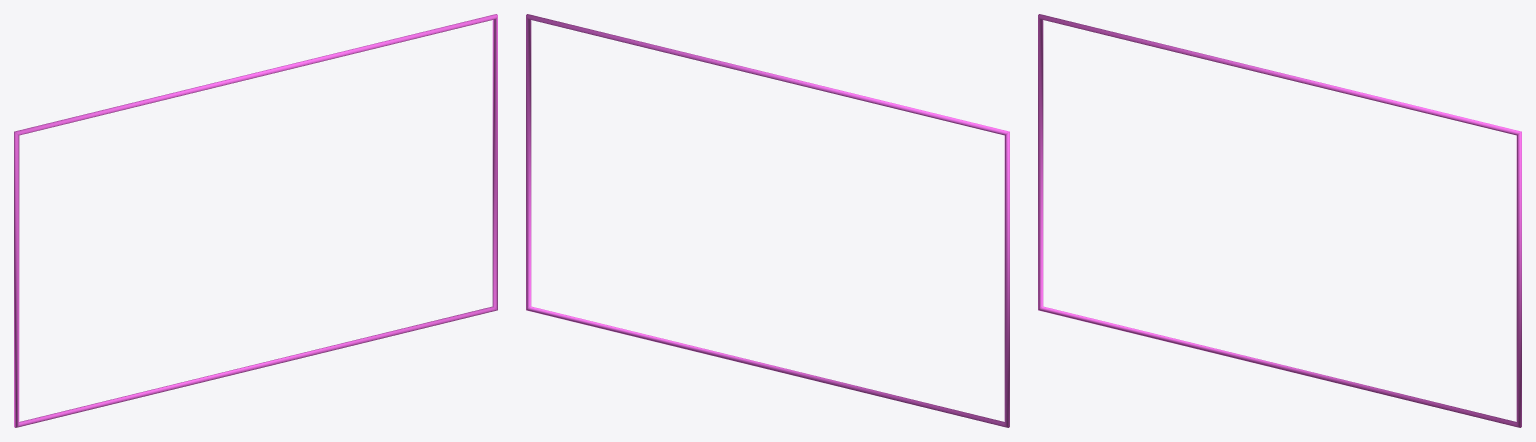
Rendered from led.glb.
The picture shows the model from 3 angles, left to right: view 1: azimuth 30°, elevation 25°; view 2: azimuth 150°, elevation 25°; view 3: azimuth 330°, elevation 25°; orthographic projection.
Visible parts, largest first — view 1: Led; view 2: Led; view 3: Led.
Part boxes in pixels (<box>): Led: <box>14,14,497,427</box>; Led: <box>526,14,1009,427</box>; Led: <box>1038,14,1521,427</box>.
Bounding box in the file's own units: 3.46 × 2.03 × 0.04.
1 material, 1 textured.
